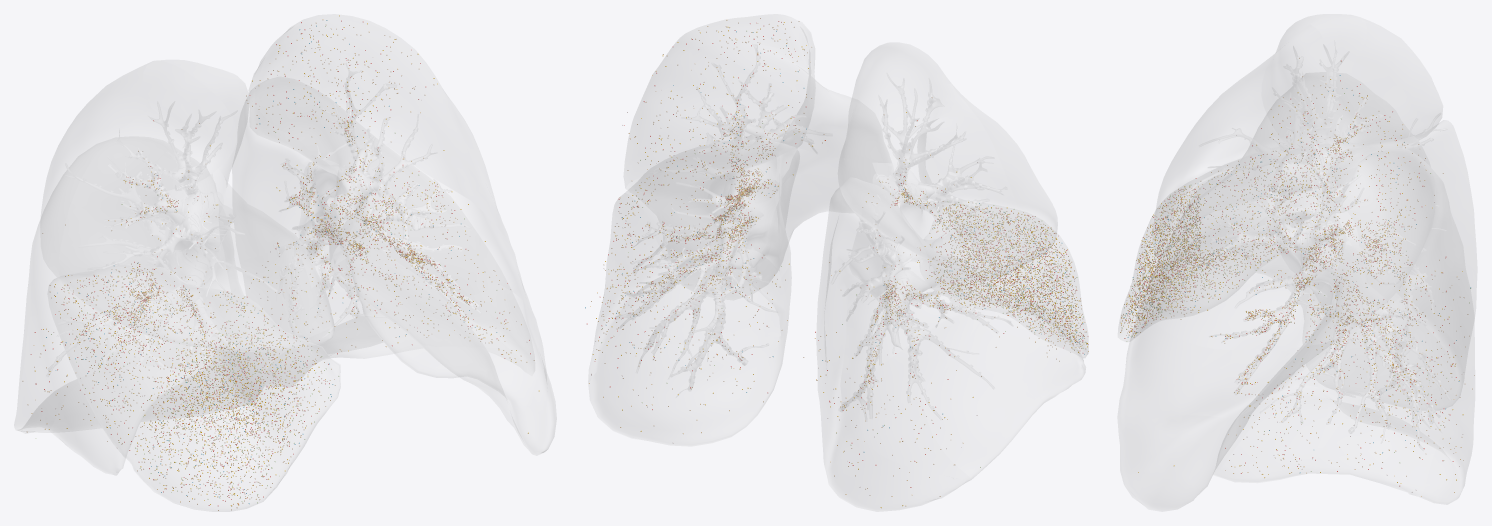
The model's file is 3d-vh-m-lung-UBERON_0001004-all-as-celltypist-sphere-hra-pop.glb.
3 renders of one model, left to right at view 1: azimuth 30°, elevation 25°; view 2: azimuth 150°, elevation 25°; view 3: azimuth 270°, elevation 25°, orthographic. The views are drawn at different scales.
Visible parts, largest first — view 1: VH_M_right_medial_bronchopulmonary_segment, VH_M_right_anterior_bronchopulmonary_segment, VH_M_left_superior_bronchopulmonary_segment, VH_M_right_superior_bronchopulmonary_segment, VH_M_right_lateral_bronchopulmonary_segment, VH_M_left_anterior_bronchopulmonary_segment, VH_M_left_lingula_superior_bronchopulmonary_segment, VH_M_right_anterior_basal_bronchopulmonary_segment, VH_M_right_posterior_bronchopulmonary_segment, VH_M_left_lingula_inferior_bronchopulmonary_segment, VH_M_left_posetrior_basal_bronchopulmonary_segment, VH_M_right_posterior_basal_bronchopulmonary_segment (+9 smaller); view 2: VH_M_left_posetrior_basal_bronchopulmonary_segment, VH_M_right_lateral_basal_bronchopulmonary_segment, VH_M_right_posterior_basal_bronchopulmonary_segment, VH_M_right_posterior_bronchopulmonary_segment, VH_M_right_anterior_basal_bronchopulmonary_segment, VH_M_left_lingula_superior_bronchopulmonary_segment, VH_M_left_superior_bronchopulmonary_segment, VH_M_left_anterior_bronchopulmonary_segment, VH_M_right_anterior_bronchopulmonary_segment, VH_M_right_superior_bronchopulmonary_segment, VH_M_left_apical_bronchopulmonary_segment, VH_M_right_apical_bronchopulmonary_segment (+16 smaller); view 3: VH_M_left_superior_bronchopulmonary_segment, VH_M_left_posterior_bronchopulmonary_segment, VH_M_left_lingula_inferior_bronchopulmonary_segment, VH_M_right_anterior_bronchopulmonary_segment, VH_M_right_posterior_bronchopulmonary_segment, VH_M_left_apical_bronchopulmonary_segment, VH_M_left_anterior_basal_bronchopulmonary_segment, VH_M_left_anterior_bronchopulmonary_segment, VH_M_left_lingula_superior_bronchopulmonary_segment, VH_M_right_medial_bronchopulmonary_segment, VH_M_left_posetrior_basal_bronchopulmonary_segment, VH_M_right_posterior_basal_bronchopulmonary_segment (+10 smaller).
Part boxes in pixels (x1,y1,x2,y2): VH_M_right_medial_bronchopulmonary_segment: [132, 289, 340, 511]; VH_M_right_anterior_bronchopulmonary_segment: [65, 179, 333, 351]; VH_M_left_superior_bronchopulmonary_segment: [232, 77, 390, 259]; VH_M_right_superior_bronchopulmonary_segment: [28, 137, 234, 288]; VH_M_right_lateral_bronchopulmonary_segment: [48, 264, 192, 459]; VH_M_left_anterior_bronchopulmonary_segment: [331, 90, 510, 297]; VH_M_left_lingula_superior_bronchopulmonary_segment: [359, 244, 532, 399]; VH_M_right_anterior_basal_bronchopulmonary_segment: [48, 366, 183, 474]; VH_M_right_posterior_bronchopulmonary_segment: [41, 63, 150, 282]; VH_M_left_lingula_inferior_bronchopulmonary_segment: [330, 244, 556, 455]; VH_M_left_posetrior_basal_bronchopulmonary_segment: [240, 262, 382, 386]; VH_M_right_posterior_basal_bronchopulmonary_segment: [19, 263, 242, 433]; VH_M_left_posetrior_basal_bronchopulmonary_segment: [588, 263, 791, 445]; VH_M_right_lateral_basal_bronchopulmonary_segment: [921, 362, 1043, 478]; VH_M_right_posterior_basal_bronchopulmonary_segment: [818, 320, 969, 511]; VH_M_right_posterior_bronchopulmonary_segment: [838, 117, 1028, 280]; VH_M_right_anterior_basal_bronchopulmonary_segment: [976, 280, 1085, 402]; VH_M_left_lingula_superior_bronchopulmonary_segment: [628, 148, 874, 238]; VH_M_left_superior_bronchopulmonary_segment: [627, 141, 799, 259]; VH_M_left_anterior_bronchopulmonary_segment: [624, 66, 891, 187]; VH_M_right_anterior_bronchopulmonary_segment: [917, 86, 1057, 260]; VH_M_right_superior_bronchopulmonary_segment: [817, 178, 960, 359]; VH_M_left_apical_bronchopulmonary_segment: [674, 14, 815, 129]; VH_M_right_apical_bronchopulmonary_segment: [852, 43, 950, 99]; VH_M_left_superior_bronchopulmonary_segment: [1340, 148, 1474, 364]; VH_M_left_posterior_bronchopulmonary_segment: [1328, 103, 1435, 287]; VH_M_left_lingula_inferior_bronchopulmonary_segment: [1119, 359, 1293, 511]; VH_M_right_anterior_bronchopulmonary_segment: [1152, 55, 1280, 257]; VH_M_right_posterior_bronchopulmonary_segment: [1328, 18, 1442, 147]; VH_M_left_apical_bronchopulmonary_segment: [1250, 72, 1382, 190]; VH_M_left_anterior_basal_bronchopulmonary_segment: [1214, 386, 1327, 482]; VH_M_left_anterior_bronchopulmonary_segment: [1157, 150, 1286, 264]; VH_M_left_lingula_superior_bronchopulmonary_segment: [1118, 263, 1342, 433]; VH_M_right_medial_bronchopulmonary_segment: [1118, 186, 1254, 341]; VH_M_left_posetrior_basal_bronchopulmonary_segment: [1330, 361, 1474, 504]; VH_M_right_posterior_basal_bronchopulmonary_segment: [1333, 294, 1475, 409].
Size of the model in its own units: 0.2594 by 0.2291 by 0.1897.
